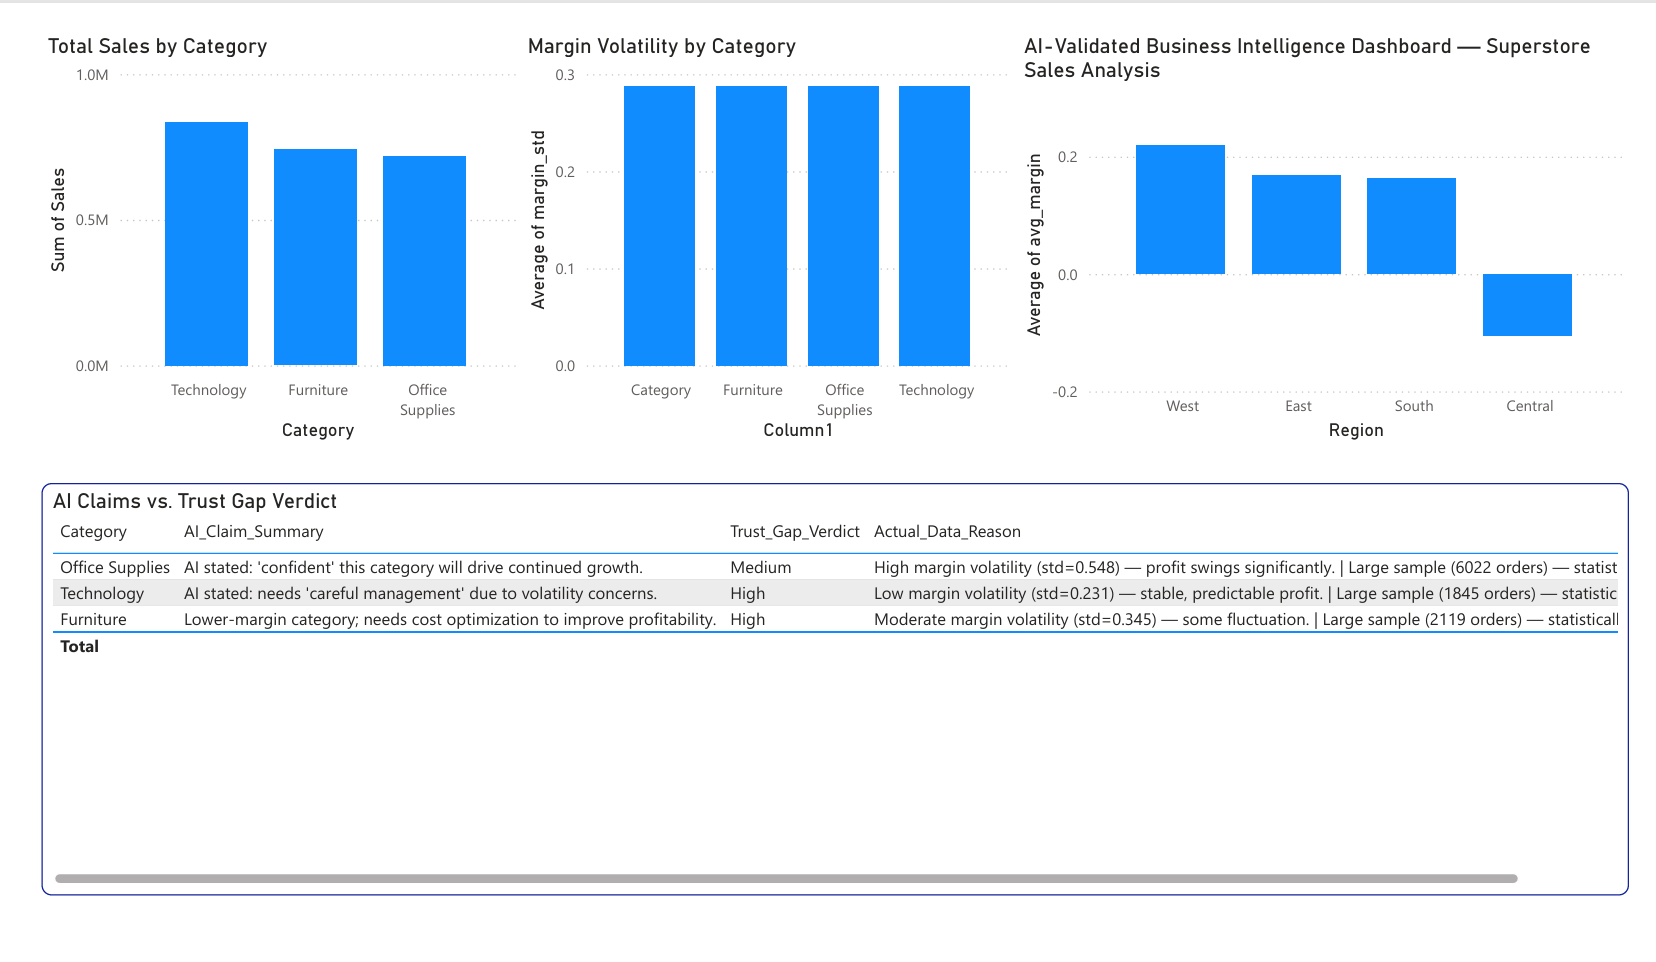

The page's visual inventory and layout, read from the dashboard file:
{"tool":"powerbi","page":{"name":"Page 1","canvas":[1280,720],"ordinal":0},"visuals":[{"type":"clusteredColumnChart","title":"Total Sales by Category","fields":{"Y":["Sum(clean_superstore.Sales)"],"Category":["clean_superstore.Category"]},"box":[9.6,0,384.2,330.7],"z":0},{"type":"clusteredColumnChart","title":"Margin Volatility by Category","fields":{"Category":["category_trust_scores.Column1"],"Y":["CountNonNull(subcategory_kpis.margin_std)"]},"box":[393.8,0,396.6,330.7],"z":1},{"type":"tableEx","title":"AI Claims vs. Trust Gap Verdict","fields":{"Values":["trust_gap_comparison.Category","trust_gap_comparison.AI_Claim_Summary","trust_gap_comparison.Trust_Gap_Verdict","trust_gap_comparison.Actual_Data_Reason"]},"box":[9.6,359.5,1270.7,330.7],"z":2},{"type":"clusteredColumnChart","title":"AI-Validated Business Intelligence Dashboard — Superstore Sales Analysis","fields":{"Category":["region_kpis.Region"],"Y":["CountNonNull(region_kpis.avg_margin)"]},"box":[791,0,489,331],"z":3}]}

Visuals, with their boxes on the page's 1280x720 design canvas (x1, y1, x2, y2). These are canvas units, not pixel positions in the 1656x962 screenshot, which may show the page scaled, cropped or inside an application window:
"Total Sales by Category" clusteredColumnChart: {"left": 10, "top": 0, "right": 394, "bottom": 331}
"Margin Volatility by Category" clusteredColumnChart: {"left": 394, "top": 0, "right": 790, "bottom": 331}
"AI Claims vs. Trust Gap Verdict" tableEx: {"left": 10, "top": 360, "right": 1280, "bottom": 690}
"AI-Validated Business Intelligence Dashboard — Superstore Sales Analysis" clusteredColumnChart: {"left": 791, "top": 0, "right": 1280, "bottom": 331}
